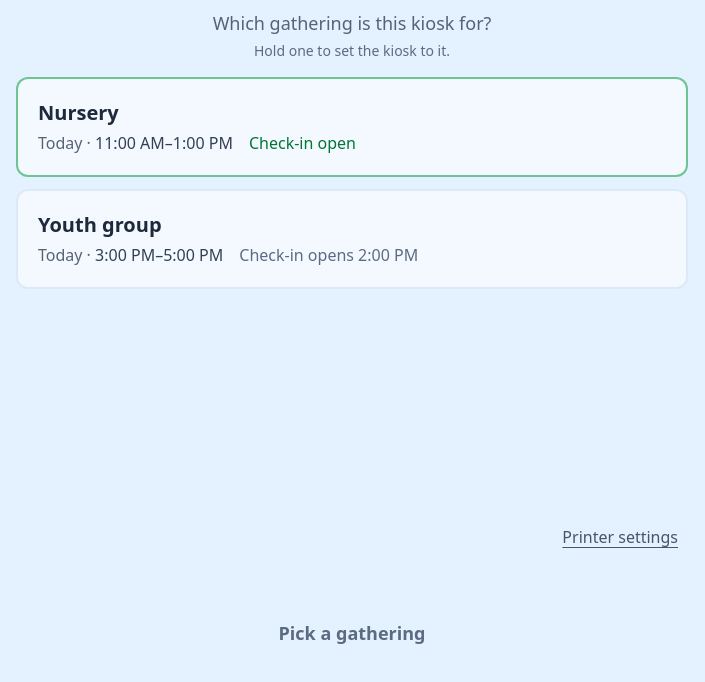
Test: the commit button › names the gathering and the time it is about to bind
Expected: the button "Pick a gathering" is shown, [16,577,688,665]
Step 1. Press the mouse on the button "Youth group" → (100, 224), box [16,189,688,289]
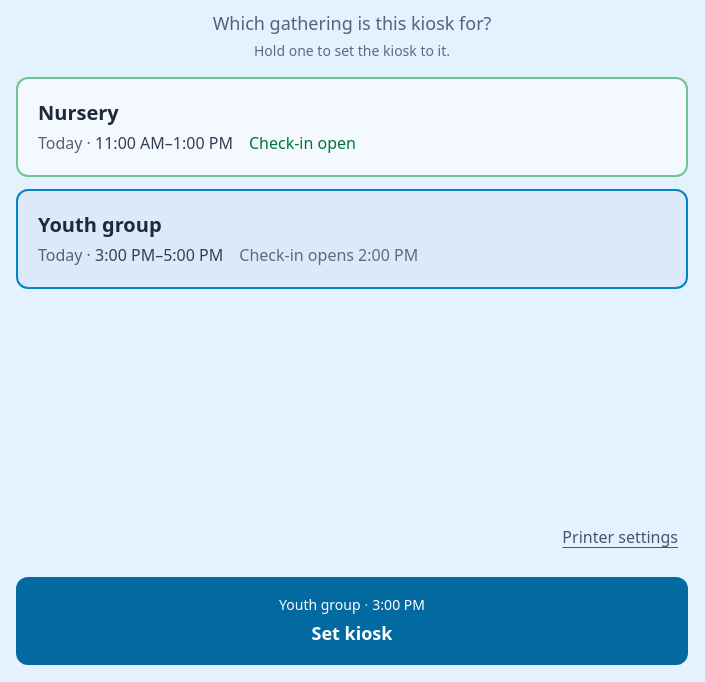
Result: the button "Youth group · 3:00 PM Set kiosk" is shown at [16,577,688,665]
